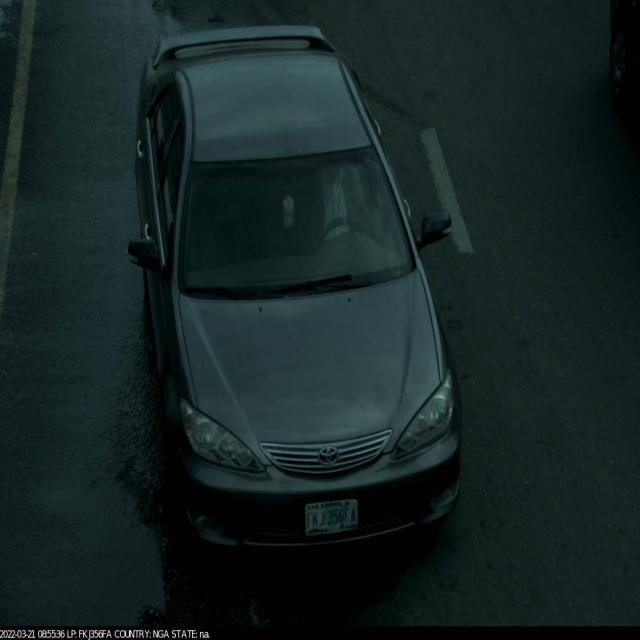windshield: (166, 139, 423, 305)
